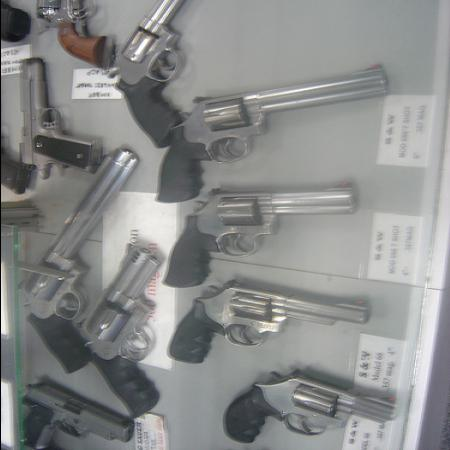Pistol: (152, 58, 392, 206), (16, 146, 134, 372), (158, 188, 358, 290), (164, 279, 374, 362), (79, 243, 160, 419), (220, 370, 392, 448), (14, 56, 99, 180), (109, 2, 179, 150)
